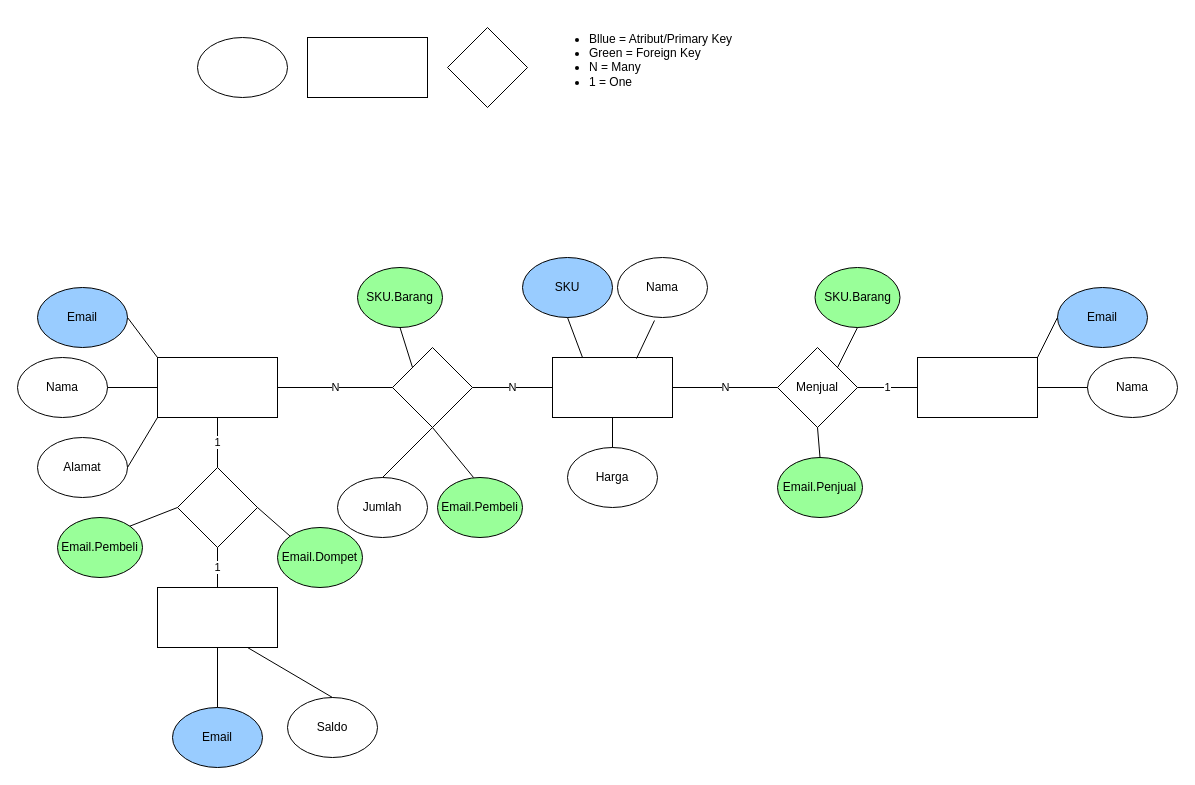
The diagram is 1195 pixels wide and 785 high, and some of its shapes have lost their labels. Here are the shapes that lost their labels. From the top down, the centre of each, then its label:
At point 242,67: "Atribut".
At point 367,67: "Entity".
At point 487,67: "Relation".
At point 217,387: "Pembeli".
At point 432,387: "Membeli".
At point 612,387: "Barang".
At point 977,387: "Penjual".
At point 217,507: "Memiliki".
At point 217,617: "Dompet".
